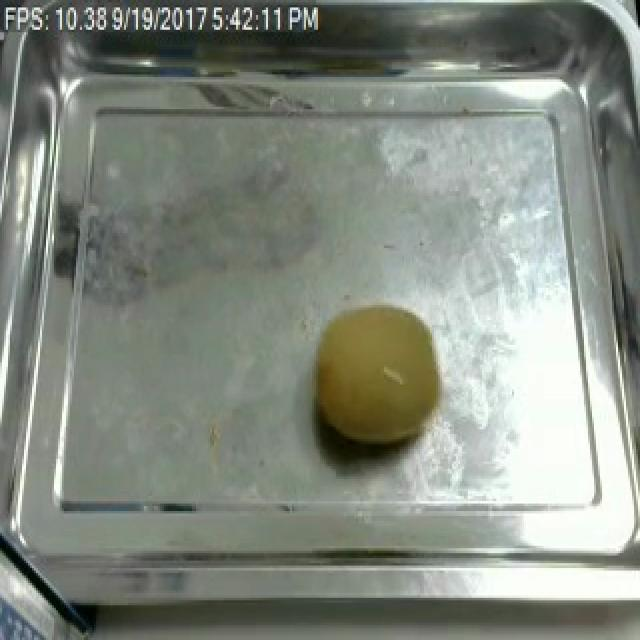Fruit: (304, 296, 452, 457)
